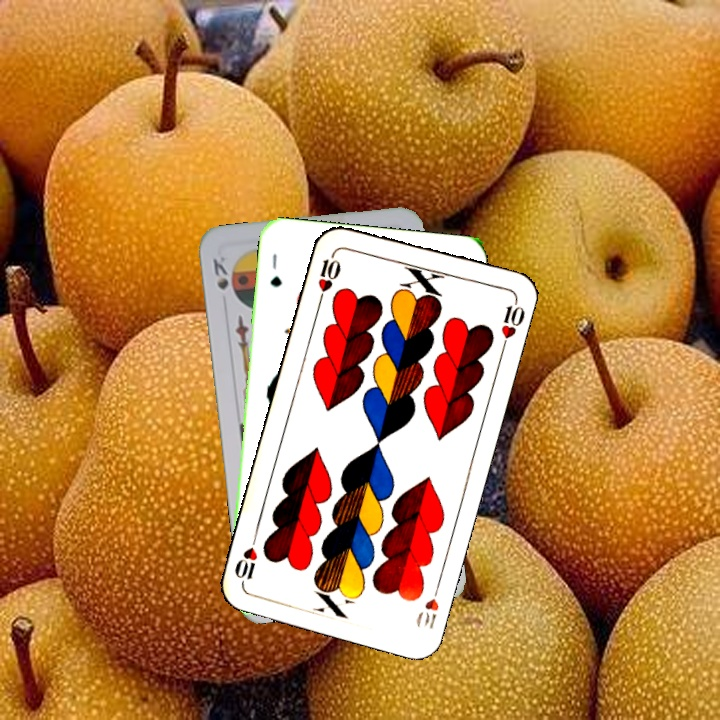GU: (266, 250, 284, 290)
H10: (313, 247, 344, 305), (412, 577, 443, 632)
SK: (209, 252, 231, 292)
